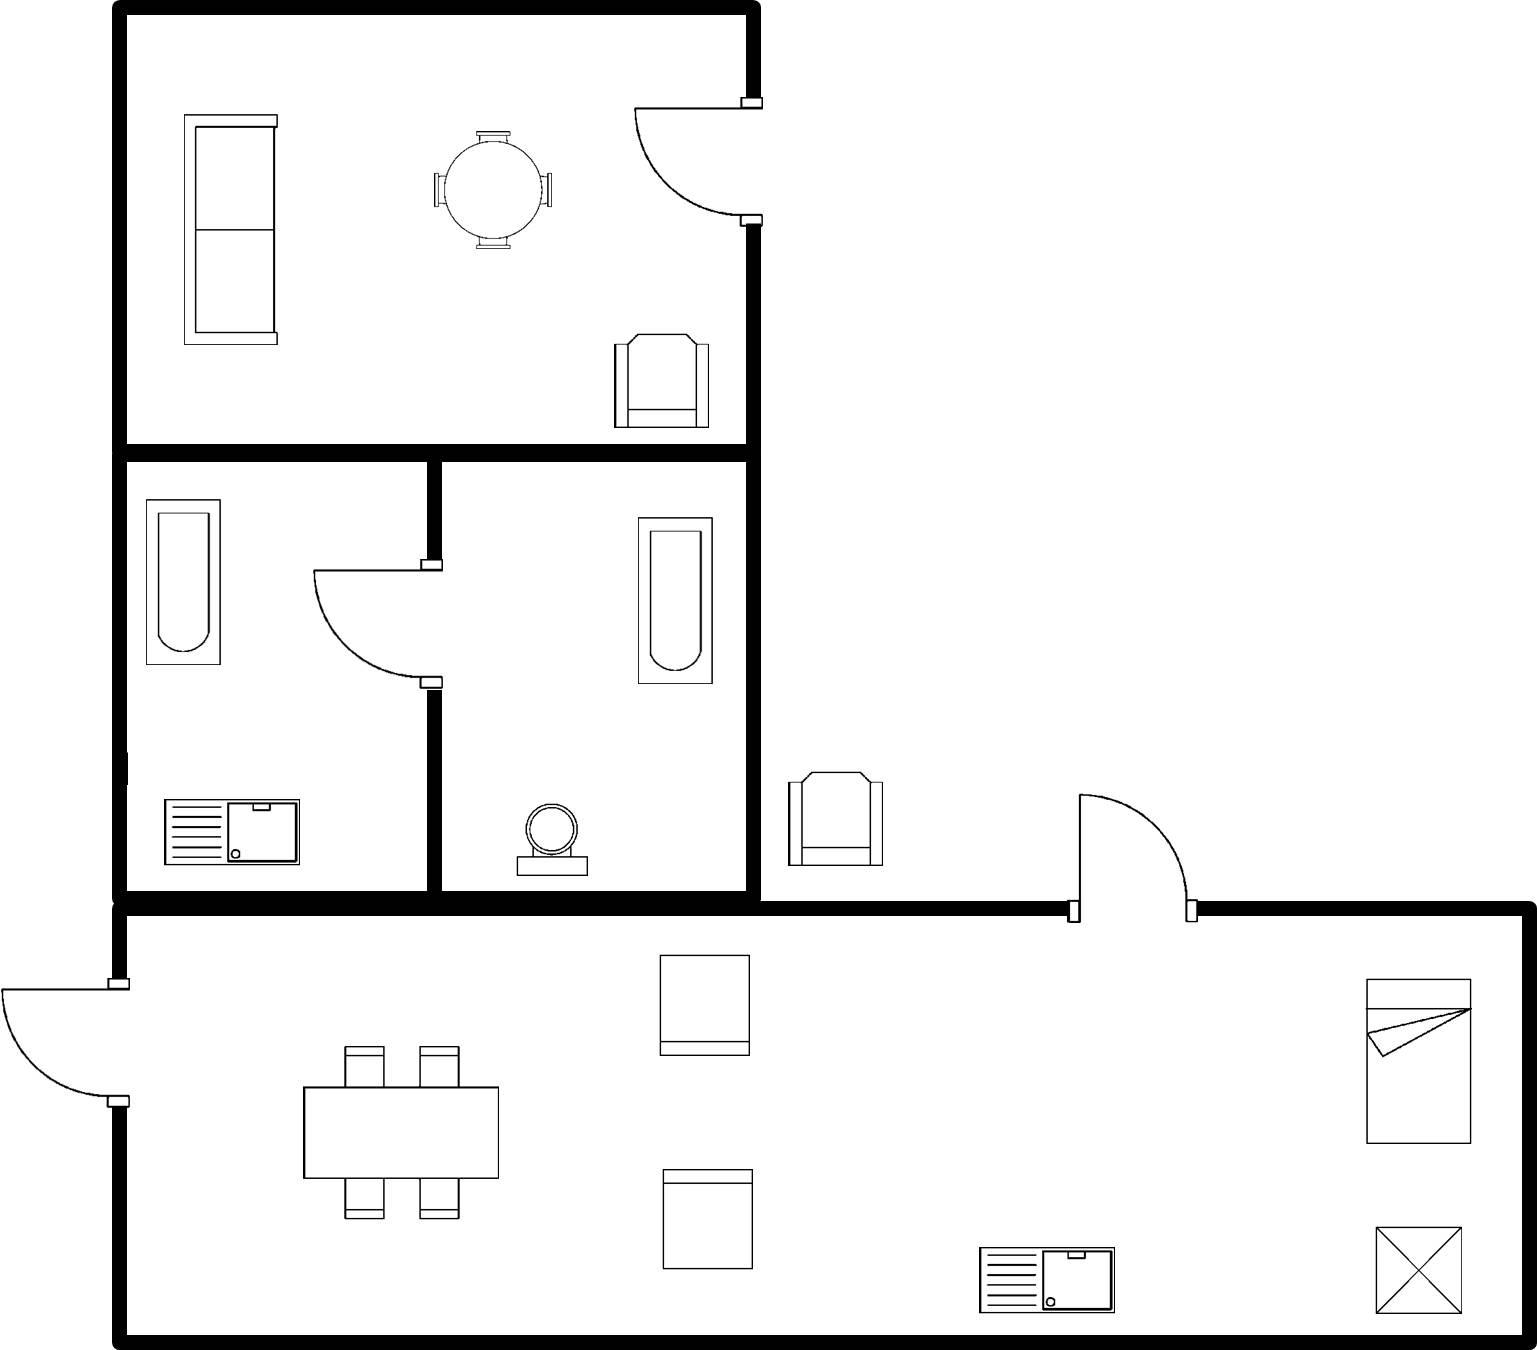bed: (1351, 964, 1479, 1157)
dining_table: (290, 1036, 514, 1227)
round_table: (421, 122, 562, 263)
sink: (966, 1232, 1123, 1323), (152, 787, 308, 876)
sofa: (174, 101, 288, 359)
toilet: (501, 795, 599, 882)
tub: (135, 491, 233, 673), (625, 508, 719, 694)
